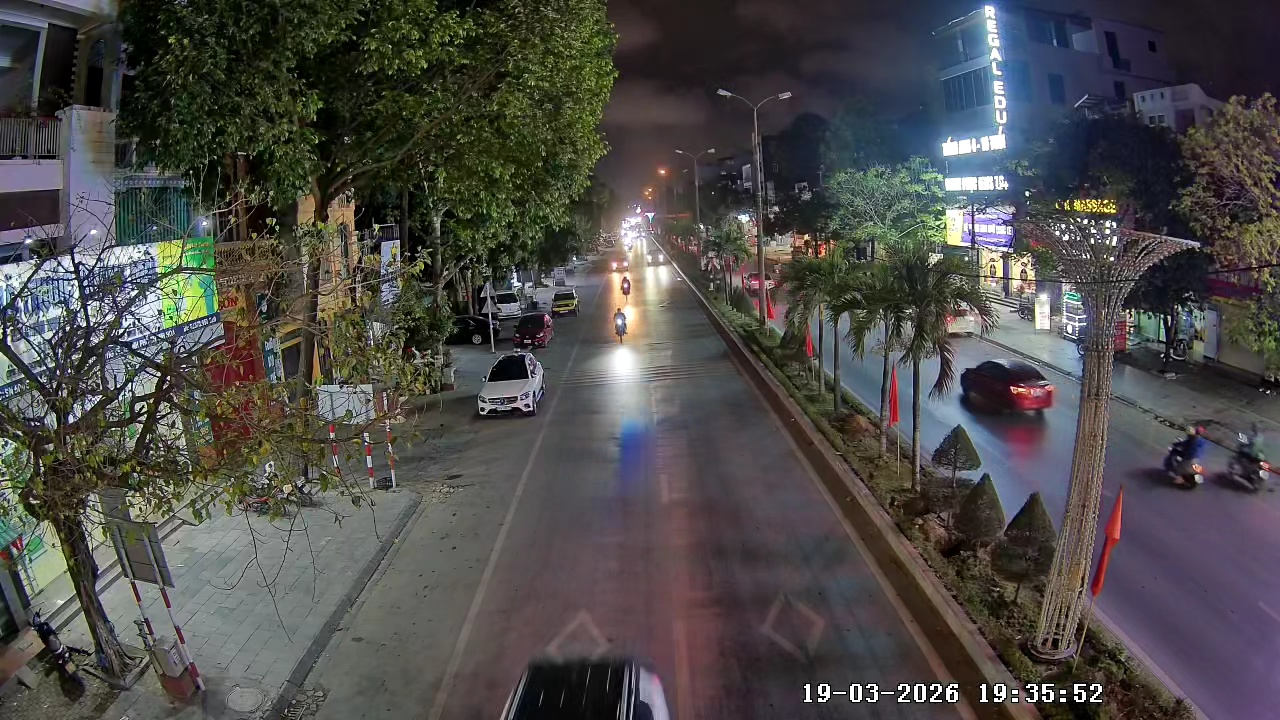car: (958, 347, 1056, 419), (473, 350, 548, 418), (513, 307, 555, 350), (551, 284, 580, 317)
motorbike: (612, 299, 630, 341)
